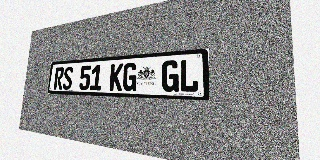1: (90, 65, 103, 90)
5: (79, 65, 91, 90)
G: (161, 60, 179, 92), (122, 62, 137, 91)
K: (109, 63, 123, 91)
L: (179, 59, 199, 93)
R: (53, 67, 64, 90)
S: (62, 66, 74, 90)
